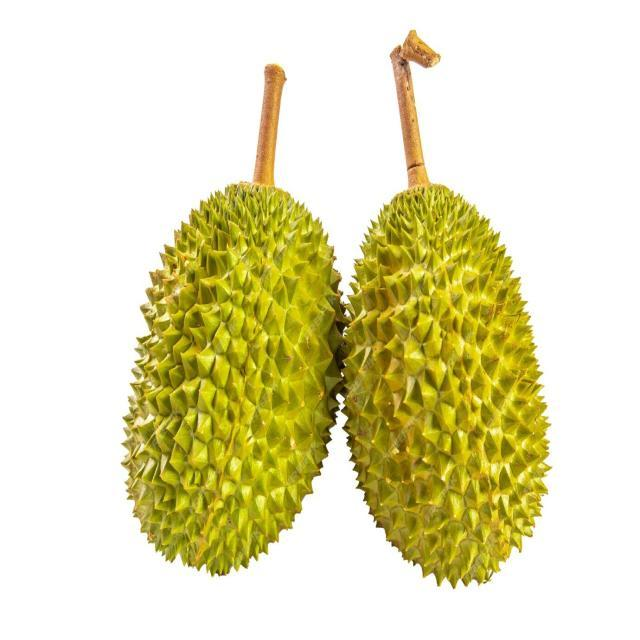immature: (126, 174, 353, 574), (343, 178, 553, 590)
